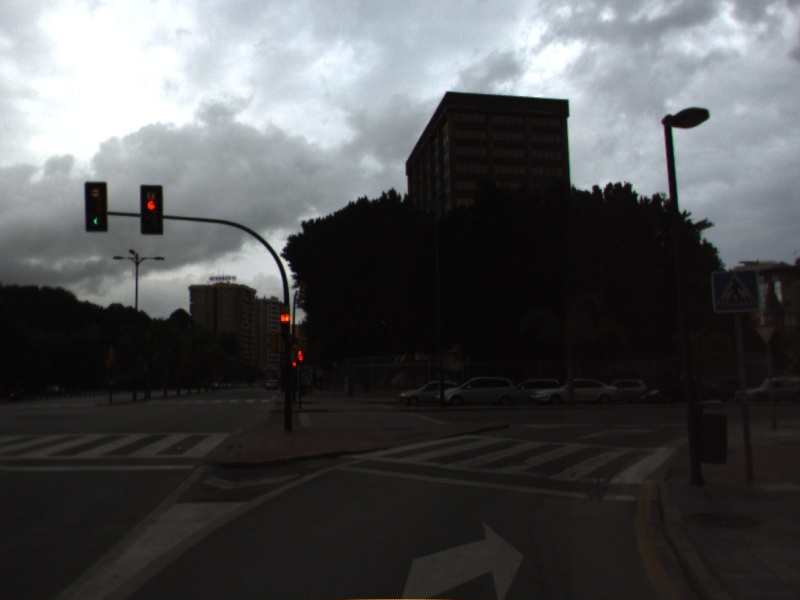RIGHT: (396, 518, 530, 600)
